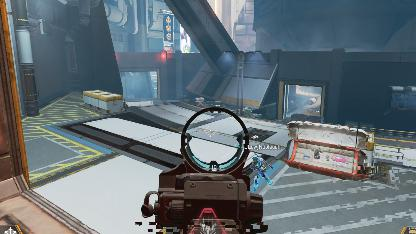Target: (249, 155, 265, 183)
